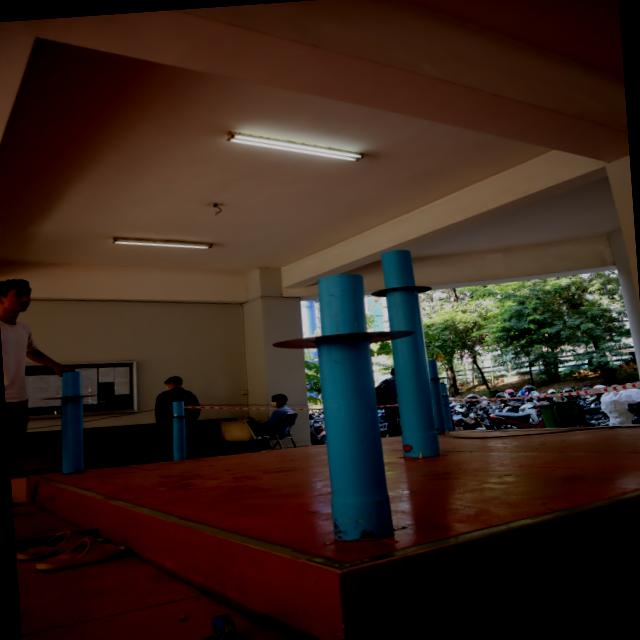pole: (264, 277, 408, 387), (361, 243, 438, 315), (38, 368, 102, 420), (158, 394, 208, 434)
